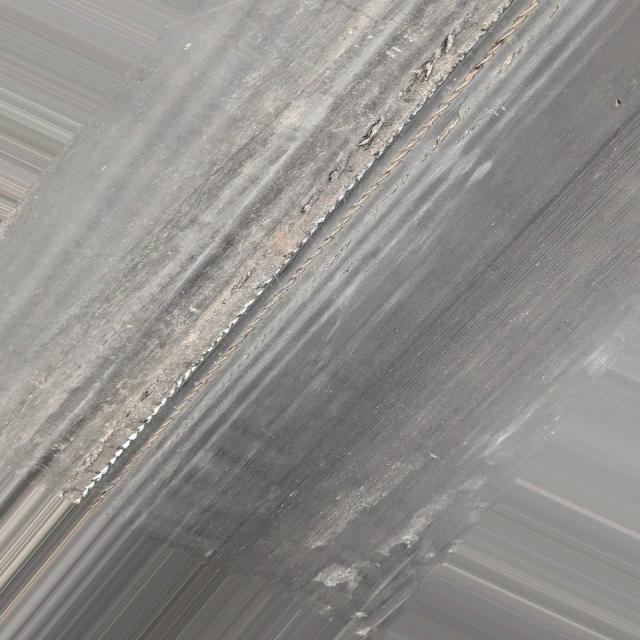impact damage: (64, 20, 527, 536)
